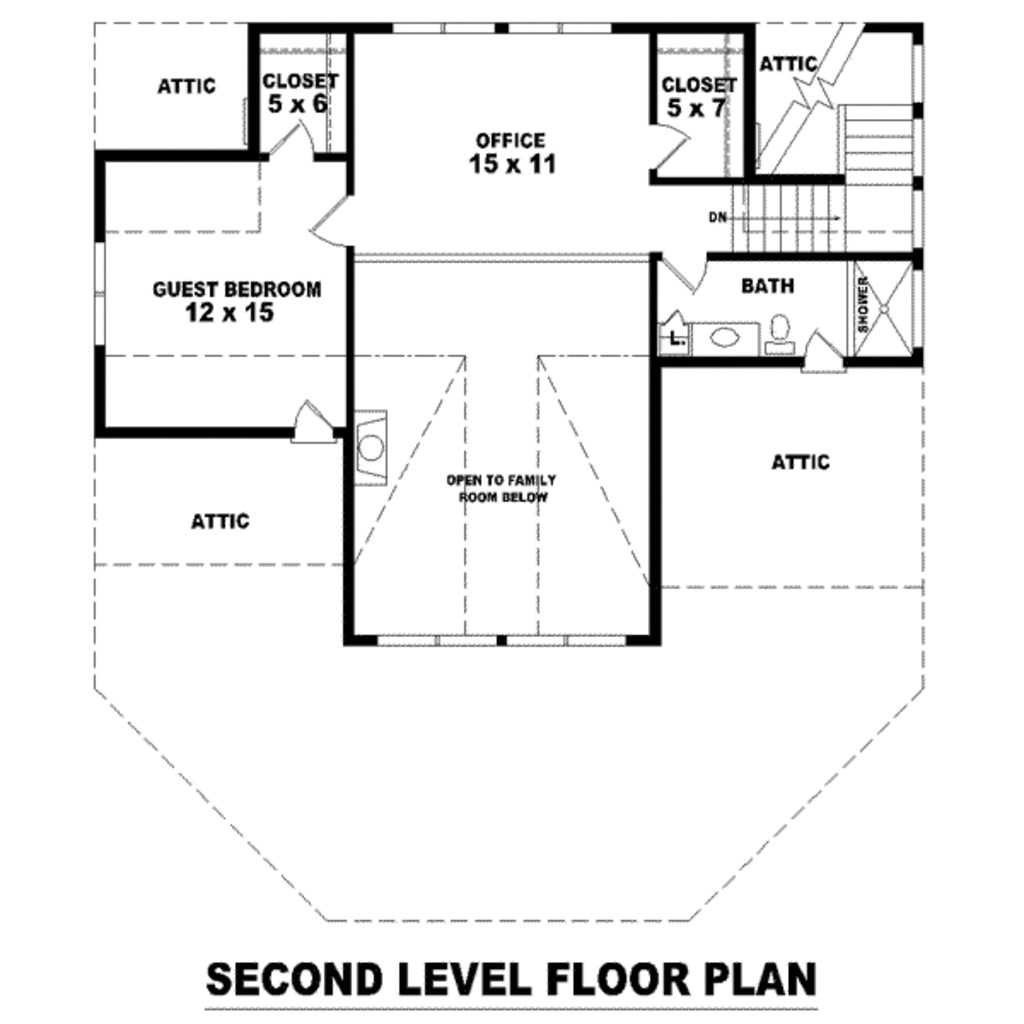door: (281, 389, 336, 453), (656, 238, 717, 291), (306, 191, 358, 250), (650, 114, 695, 182), (797, 322, 852, 374), (264, 122, 323, 163)
large_sink: (764, 307, 792, 357)
small_sink: (688, 319, 763, 358)
stairs: (729, 88, 924, 252)
window: (89, 246, 116, 353), (386, 17, 502, 36), (511, 19, 608, 41)
